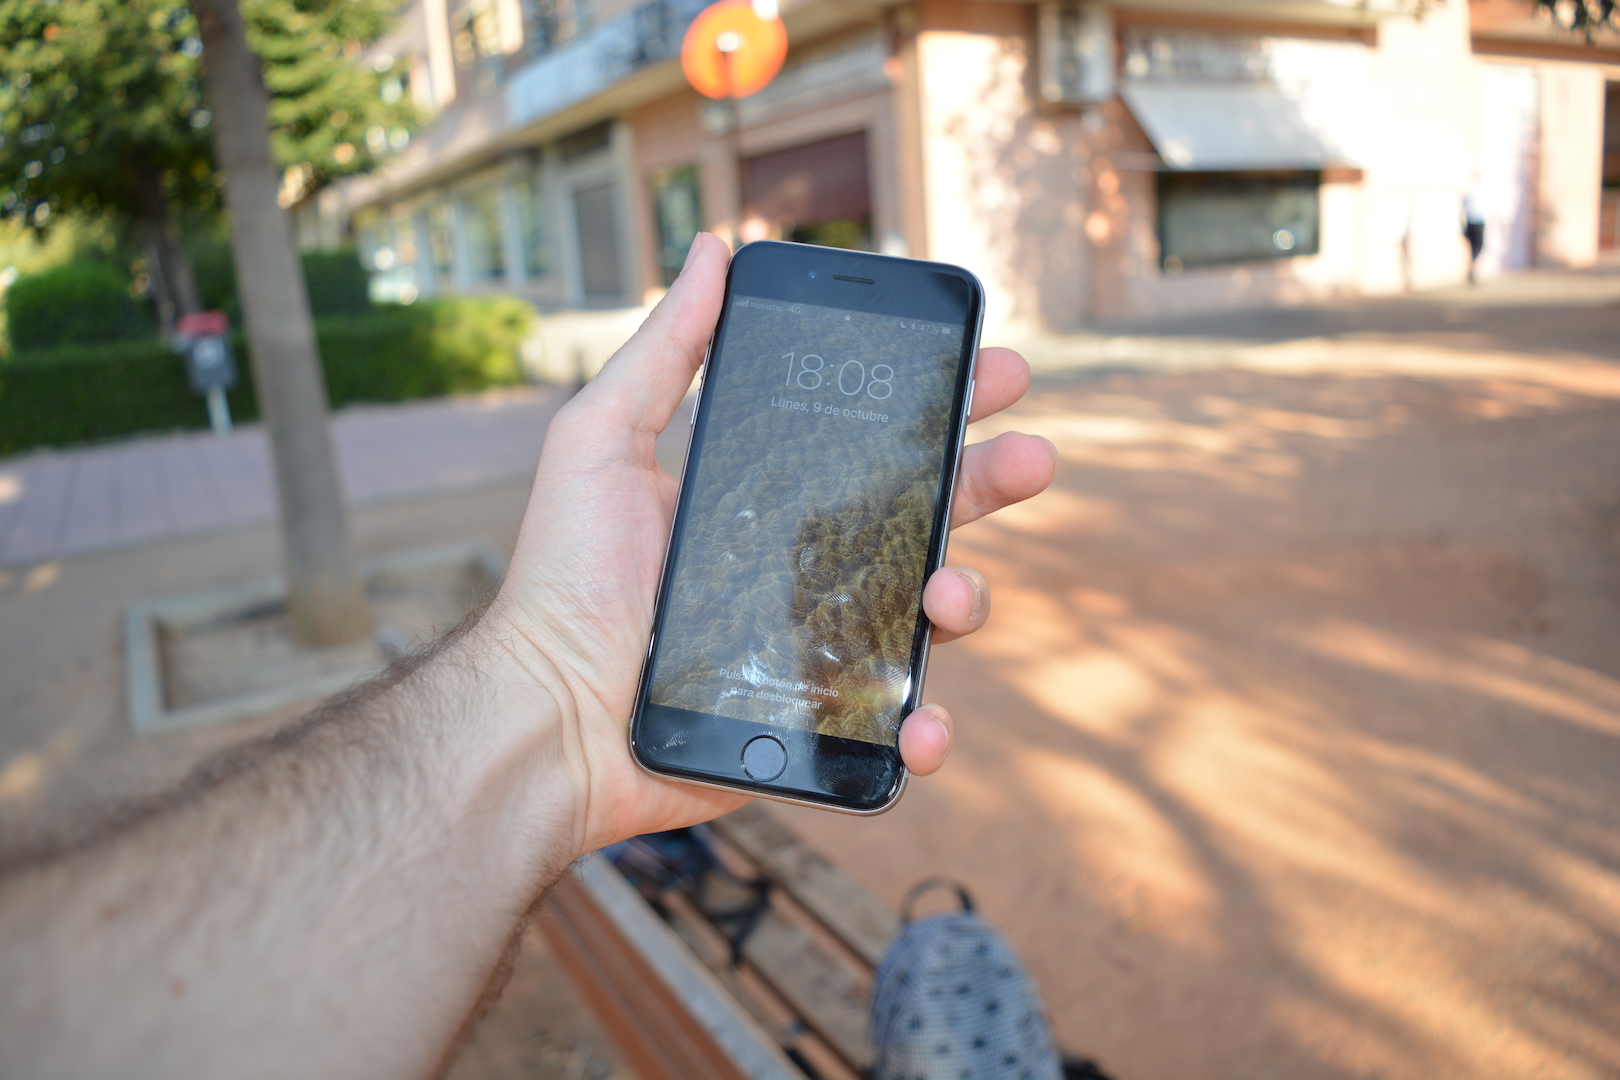smartphone: (626, 239, 987, 817)
